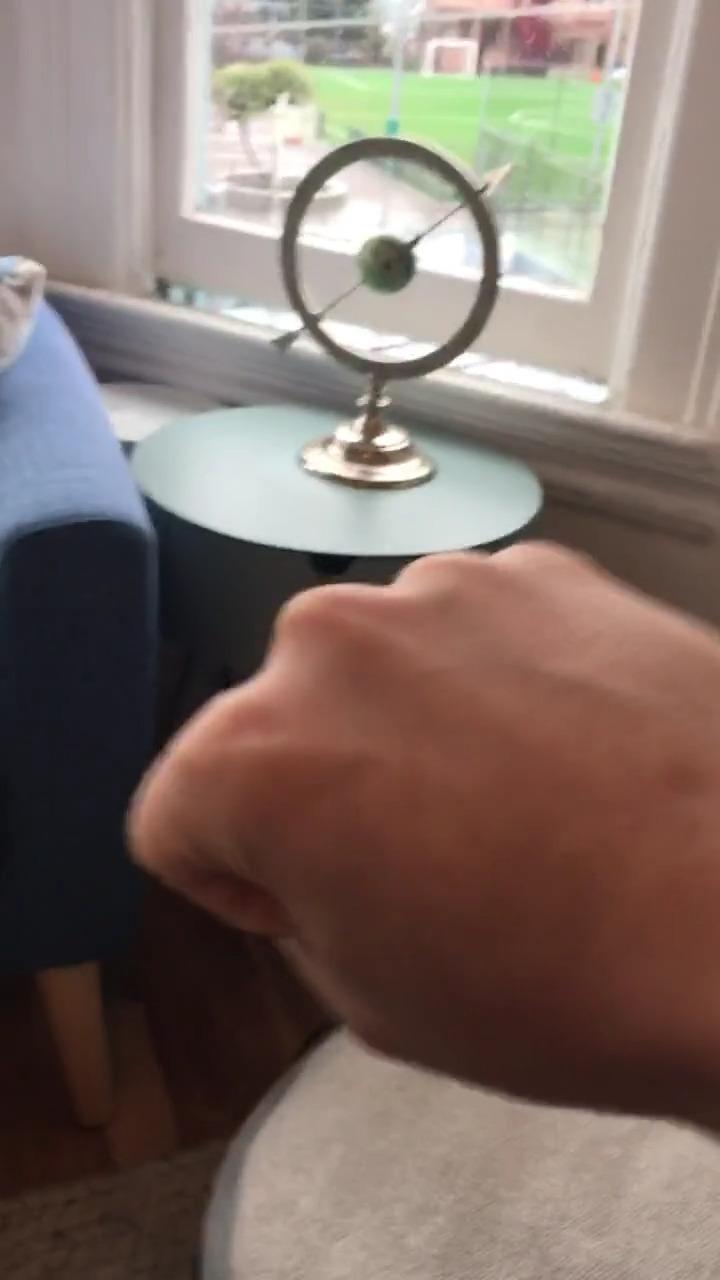Rock: (120, 540, 720, 1125)
